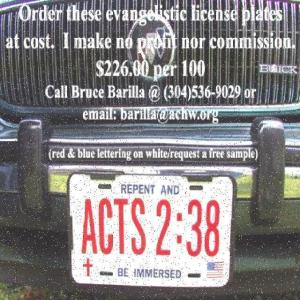Plate: (68, 172, 232, 285)
